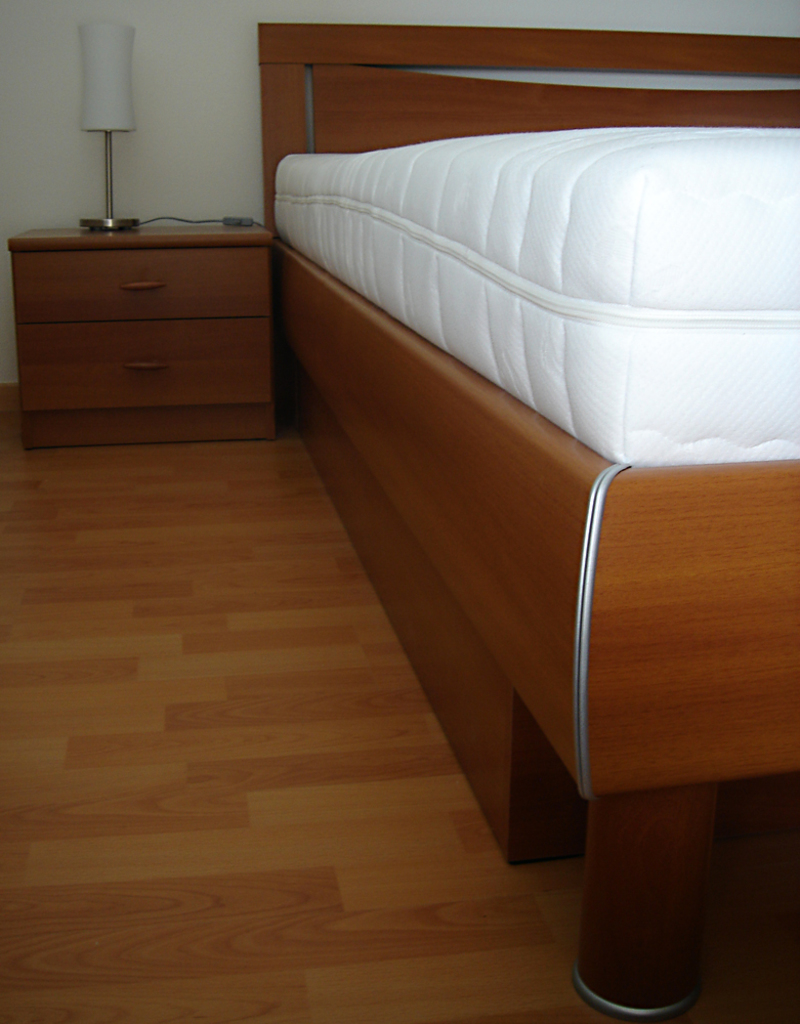cabinet door: (22, 326, 268, 404), (22, 245, 266, 320)
handle: (128, 346, 168, 383), (122, 267, 162, 302)
